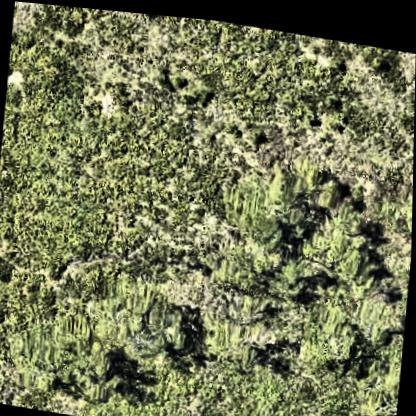tree-top: (120, 278, 202, 357), (224, 162, 300, 246), (300, 195, 374, 280), (42, 328, 110, 409), (267, 258, 312, 304)
